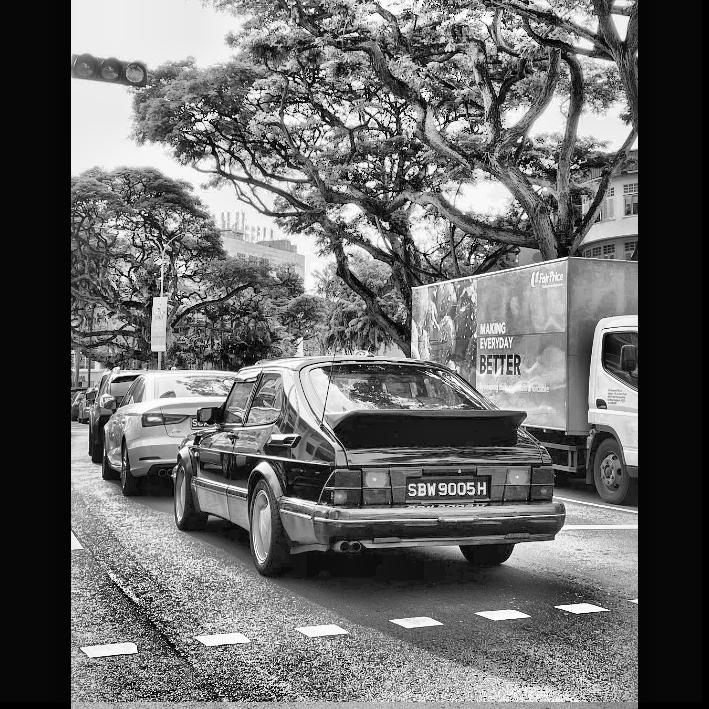License-Plates: (406, 478, 487, 500), (190, 418, 222, 426)
